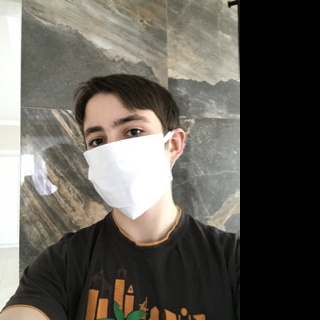with_mask: (83, 110, 174, 220)
